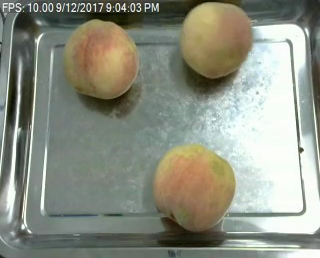Peach: (153, 144, 235, 231), (64, 18, 139, 97), (180, 2, 252, 78)
